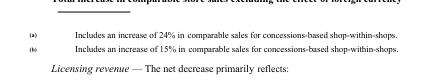table: (28, 28, 397, 53)
table column: (54, 28, 397, 53), (28, 28, 54, 53)
table row: (28, 28, 397, 41), (28, 41, 397, 53)
